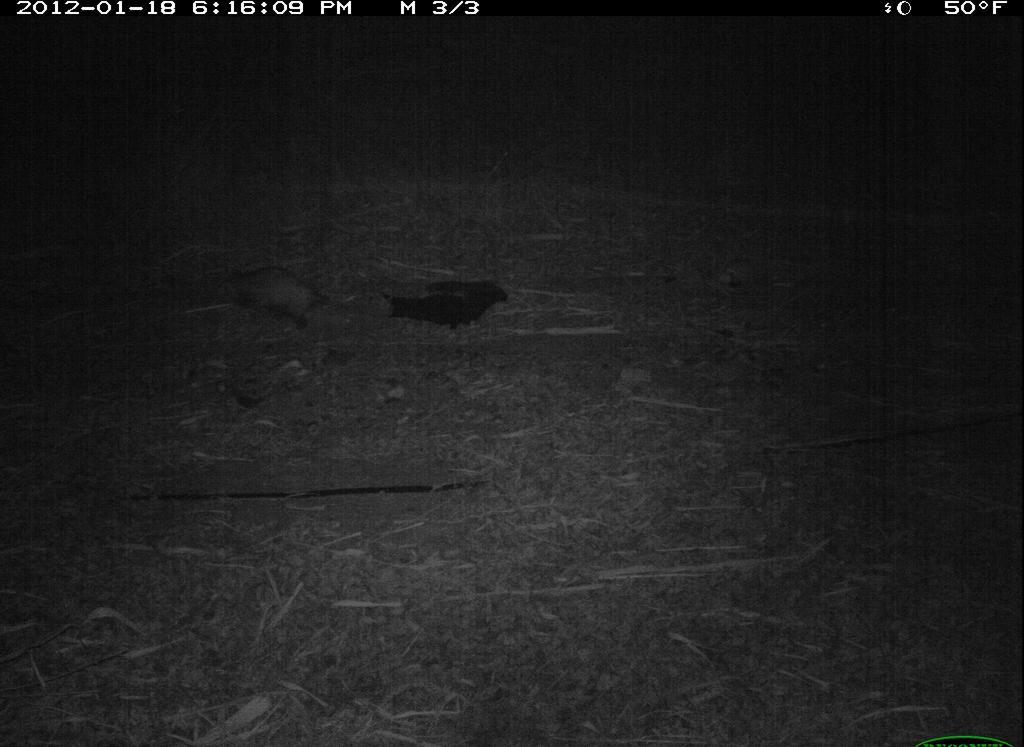opossum: (199, 254, 353, 345)
